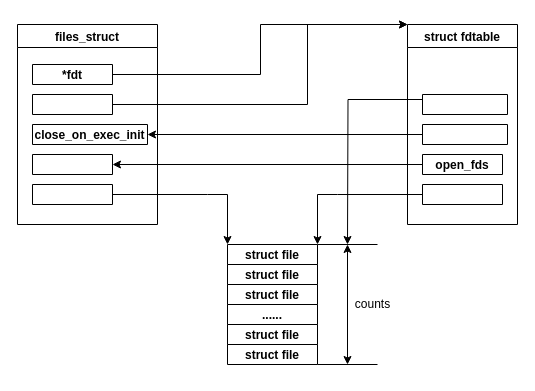
Image size: 535x391. Some labels were removed from this diagram. Here are the shapes that lost their labels. From the top down, the centre of each, then its label:
pixel 72 104: fdtab
pixel 465 104: max_fds
pixel 465 134: close_on_exec
pixel 72 164: open_fds_init
pixel 72 194: *fd_array
pixel 462 194: **fd
